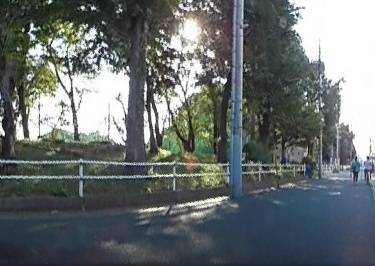person: (364, 156, 373, 181), (350, 158, 360, 180)
